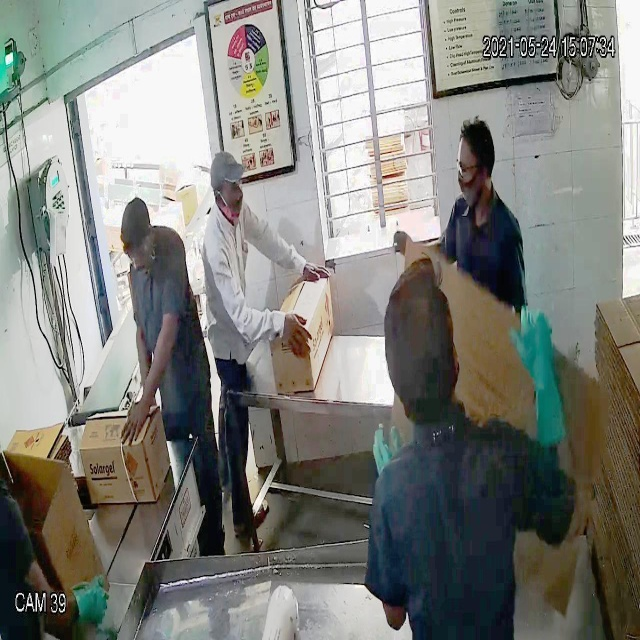Gafas: (454, 152, 490, 181)
Sin_gafas: (210, 176, 246, 202)
